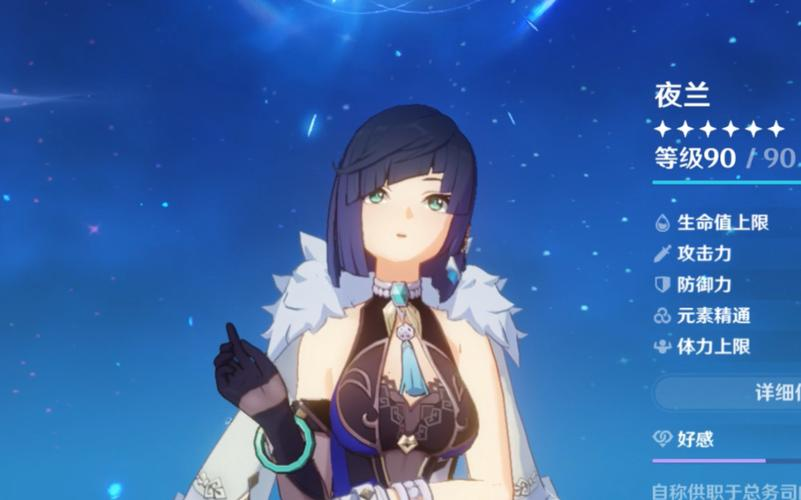夜兰: (211, 98, 519, 500)
